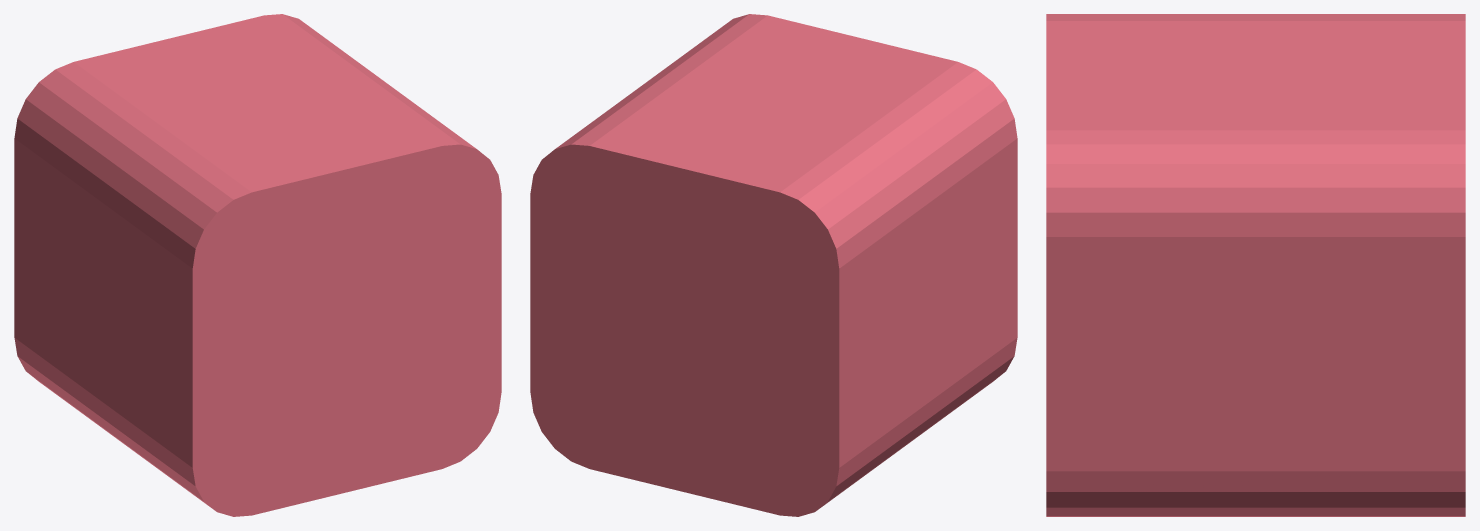
File: fixture-block.glb
The picture shows the model from 3 angles, left to right: view 1: azimuth 30°, elevation 25°; view 2: azimuth 150°, elevation 25°; view 3: azimuth 270°, elevation 25°; orthographic projection. The views are drawn at different scales.
Parts seen in each view (by area): view 1: fixture_block; view 2: fixture_block; view 3: fixture_block.
Part boxes in pixels (bbox=[...]): fixture_block: bbox=[14, 14, 501, 516]; fixture_block: bbox=[530, 14, 1017, 516]; fixture_block: bbox=[1046, 14, 1465, 516].
Bounding box in the file's own units: 2.4 × 2.4 × 2.4.
